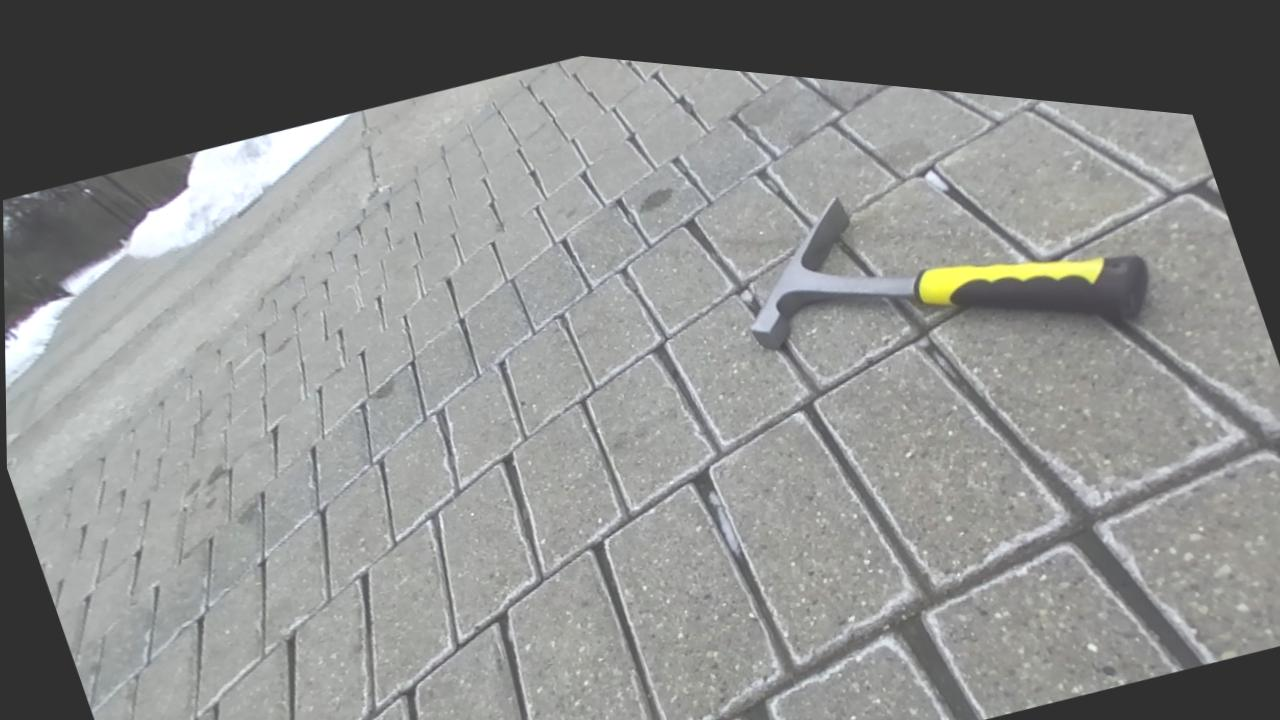pick: (751, 198, 1147, 348)
